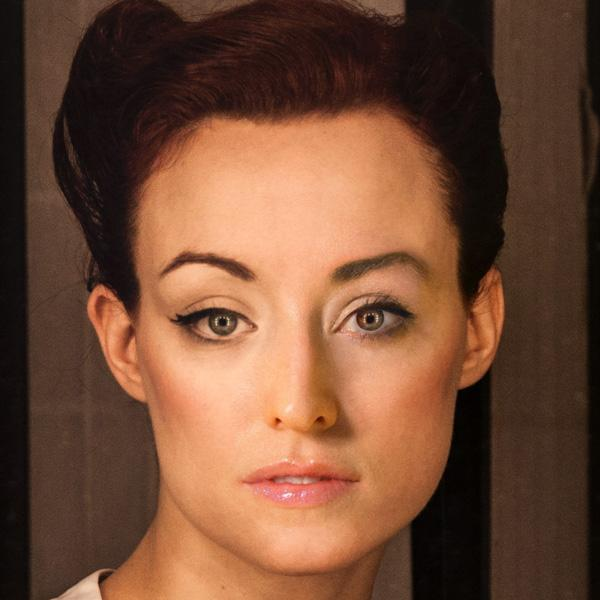Eyes: (163, 292, 271, 357), (326, 289, 424, 354)
